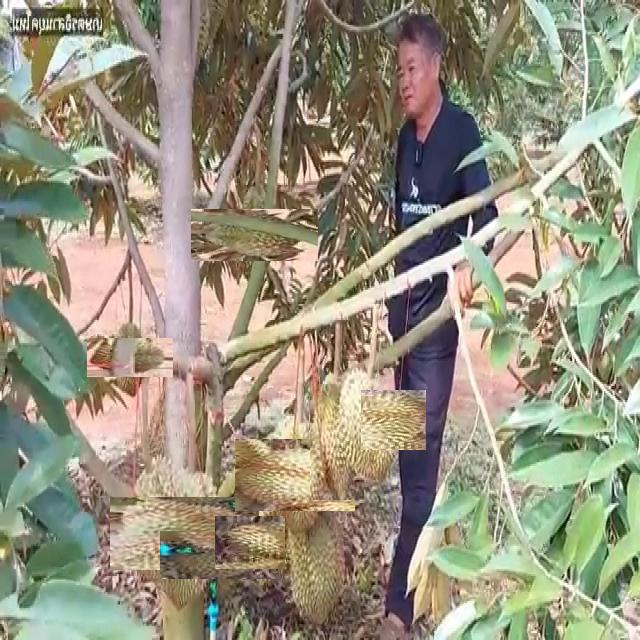durian: (129, 478, 240, 590), (285, 486, 353, 632), (246, 426, 343, 523), (120, 447, 188, 585), (210, 190, 300, 280), (323, 376, 413, 464), (177, 513, 260, 597), (229, 501, 313, 583), (310, 365, 361, 500), (99, 326, 161, 388)
